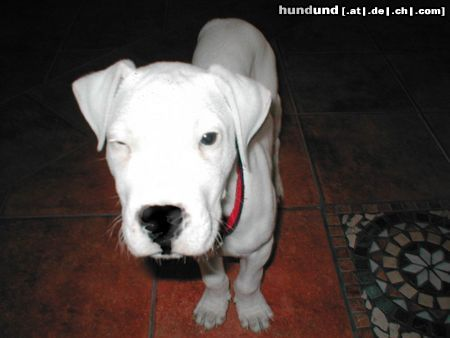dogo_argentino: (72, 17, 284, 334)
